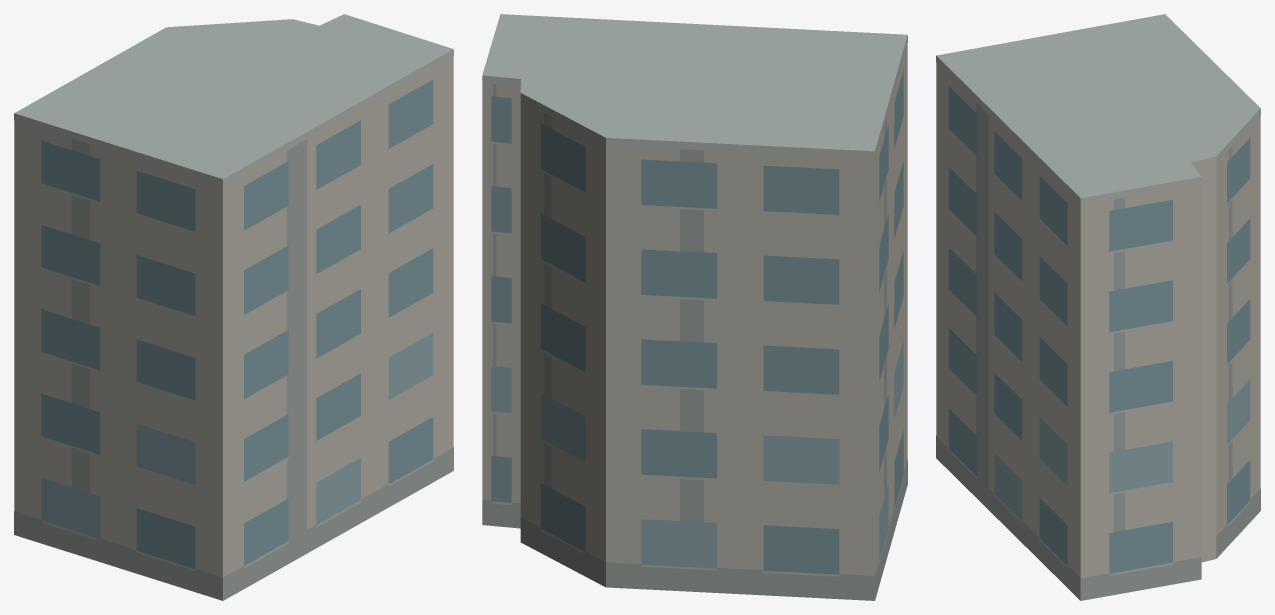
The model's file is survey-upis-32501985.glb.
3 views of the same model, side by side, from view 1: azimuth 30°, elevation 25°; view 2: azimuth 150°, elevation 25°; view 3: azimuth 270°, elevation 25° (orthographic). The views are drawn at different scales.
Parts seen in each view (by area): view 1: survey-upis-32501985.tmp; view 2: survey-upis-32501985.tmp; view 3: survey-upis-32501985.tmp.
Boxes of the visible parts, left/top/right/bottom form: survey-upis-32501985.tmp: left=14, top=14, right=453, bottom=600; survey-upis-32501985.tmp: left=482, top=14, right=907, bottom=600; survey-upis-32501985.tmp: left=936, top=14, right=1260, bottom=600.
Bounding box in the file's own units: 13.94 × 14.2 × 10.38.
